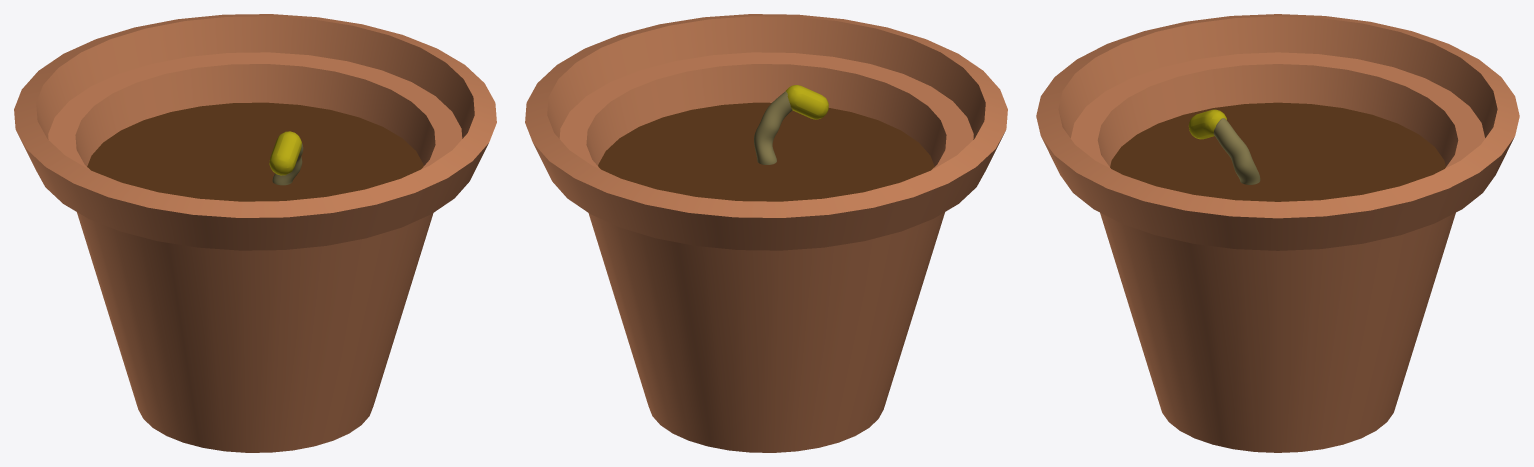
Rendered from dyingSapling.fbx.
3 renders of one model, left to right at view 1: azimuth 30°, elevation 25°; view 2: azimuth 150°, elevation 25°; view 3: azimuth 270°, elevation 25°, orthographic.
Parts seen in each view (by area): view 1: Plant Pot, Mball; view 2: Plant Pot, Cylinder.001, Mball; view 3: Plant Pot, Cylinder.001, Mball.
Part boxes in pixels (<box>): Plant Pot: <box>14,14,496,452</box>; Mball: <box>269,131,301,175</box>; Plant Pot: <box>525,14,1007,452</box>; Cylinder.001: <box>754,91,792,164</box>; Mball: <box>785,85,828,119</box>; Plant Pot: <box>1036,14,1519,452</box>; Cylinder.001: <box>1213,118,1260,184</box>; Mball: <box>1188,109,1226,139</box>.
Bounding box in the file's own units: 535 × 364 × 535.
